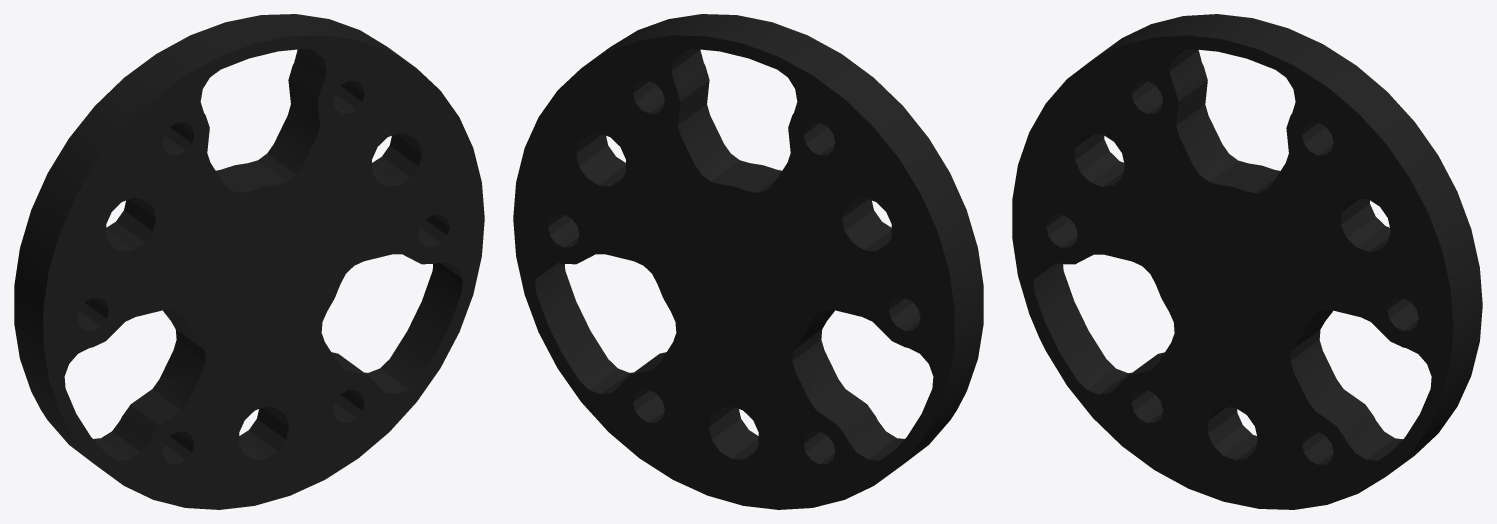
3 renders of one model, left to right at view 1: azimuth 30°, elevation 25°; view 2: azimuth 150°, elevation 25°; view 3: azimuth 330°, elevation 25°, orthographic.
Bounding box in the file's own units: 0.0349 × 0.035 × 0.004.
1 material, 1 textured.
